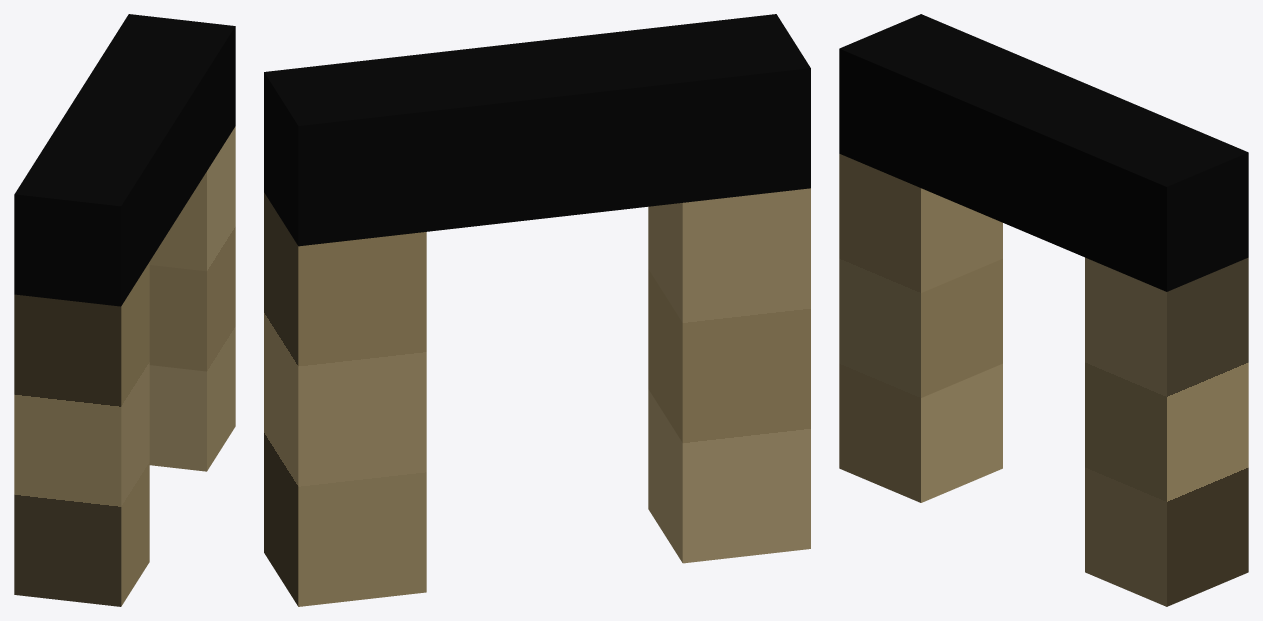
File: marker_switch_handle_on.obj
3 views of the same model, side by side, from view 1: azimuth 30°, elevation 25°; view 2: azimuth 150°, elevation 25°; view 3: azimuth 270°, elevation 25° (orthographic). The views are drawn at different scales.
Parts seen in each view (by area): view 1: Cube.002_Cube.005; view 2: Cube.002_Cube.005; view 3: Cube.002_Cube.005.
Part boxes in pixels (bbox=[...]): Cube.002_Cube.005: bbox=[14, 14, 235, 606]; Cube.002_Cube.005: bbox=[264, 14, 810, 606]; Cube.002_Cube.005: bbox=[839, 14, 1248, 606].
Bounding box in the file's own units: 0.221 × 0.25 × 0.221.
